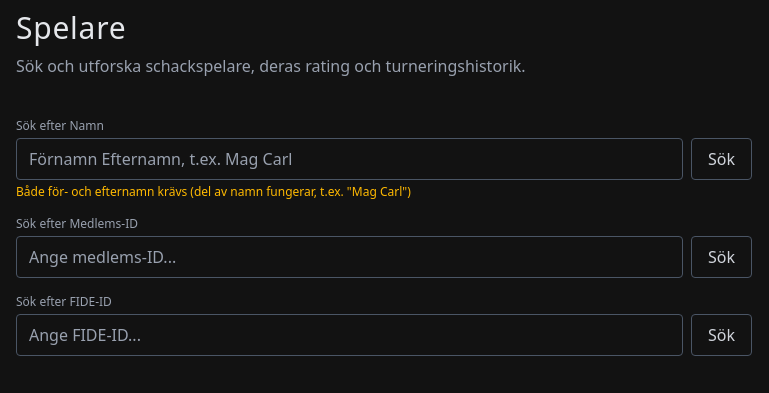
it: players search page › says so inline, and stays put, when the id does not resolve
Type "1" into the number field with placeholder "Ange medlems-ID..." at (350, 257), box [16,236,683,278]
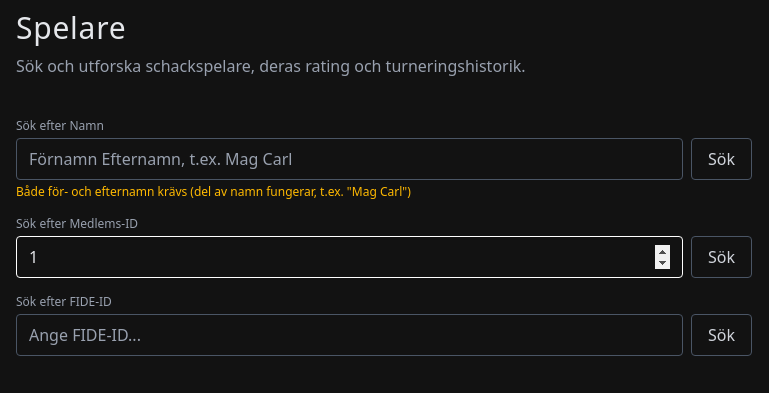
Click the 2nd button "Sök" at (722, 257), box [691,236,752,278]
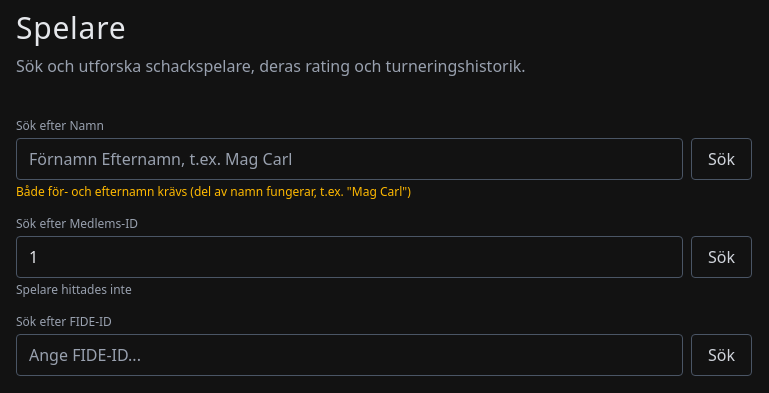
Expected: the text "Spelare hittades inte" is shown, [16,281,132,298]
